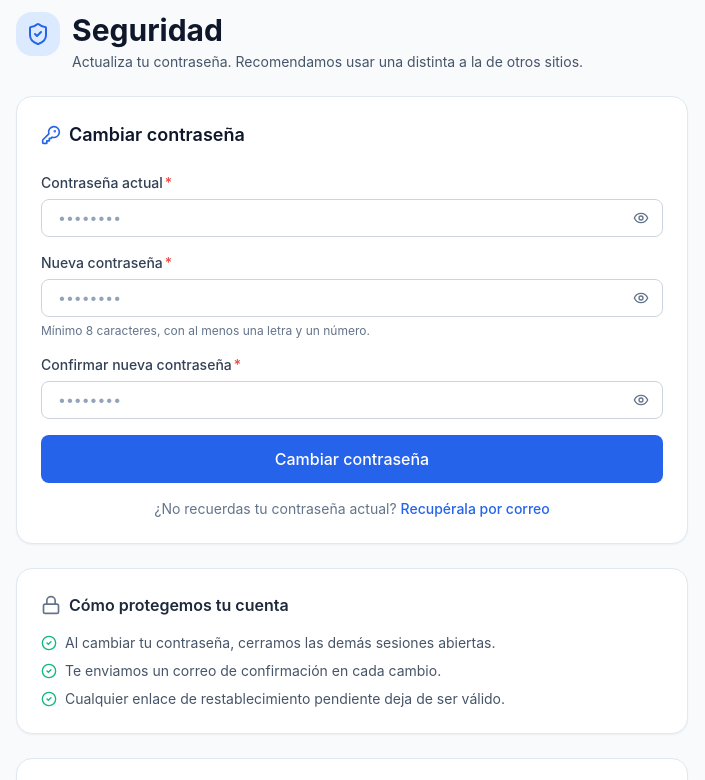
Scenario: SecuritySettings › valida la política y la confirmación
Type "Actual123" into the password field labelled "Contraseña actual*". click: (352, 218)
box: [41,199,663,237]
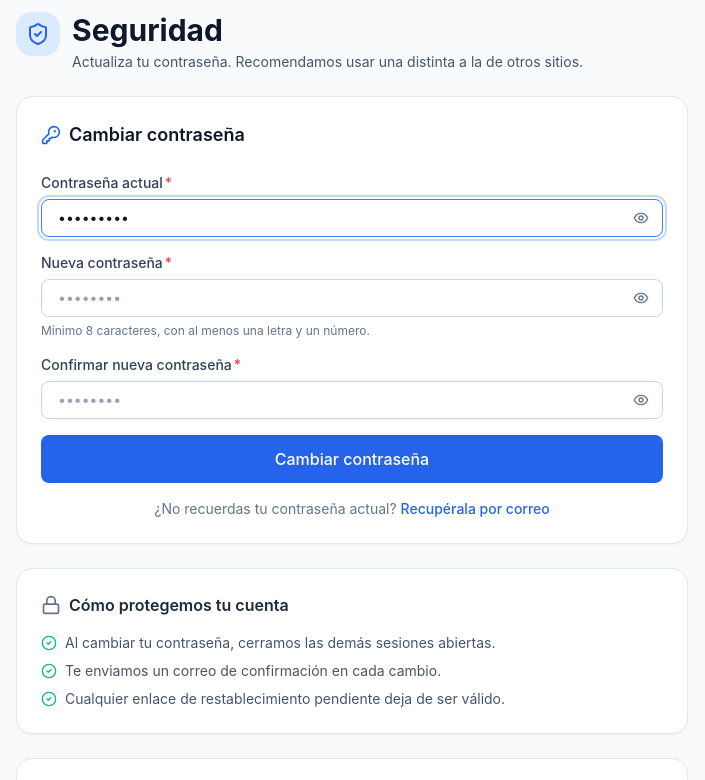
Type "sololetras" into the password field labelled "Nueva contraseña*". click: (352, 298)
box: [41,279,663,317]
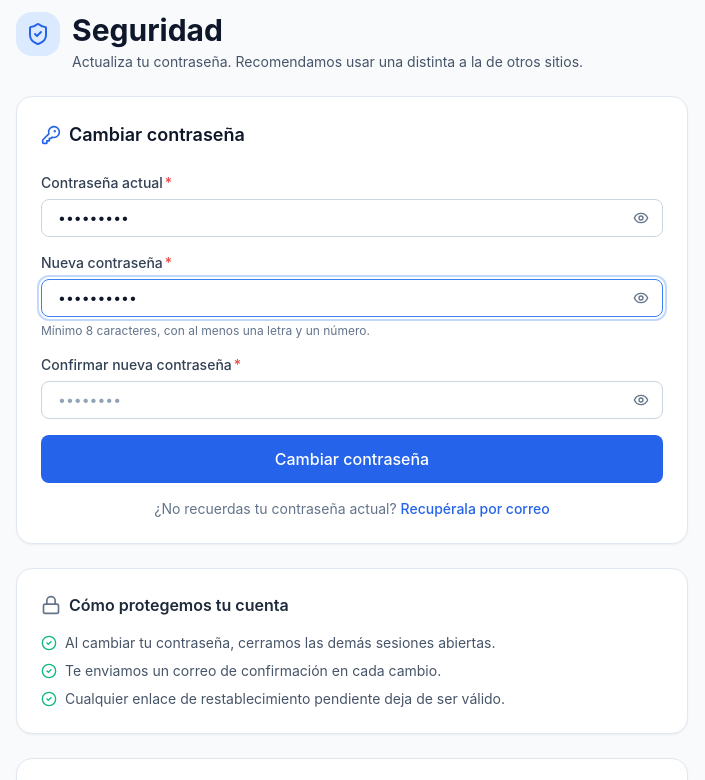
Type "otra" into the password field labelled "Confirmar nueva contraseña*". click: (352, 400)
box: [41,381,663,419]
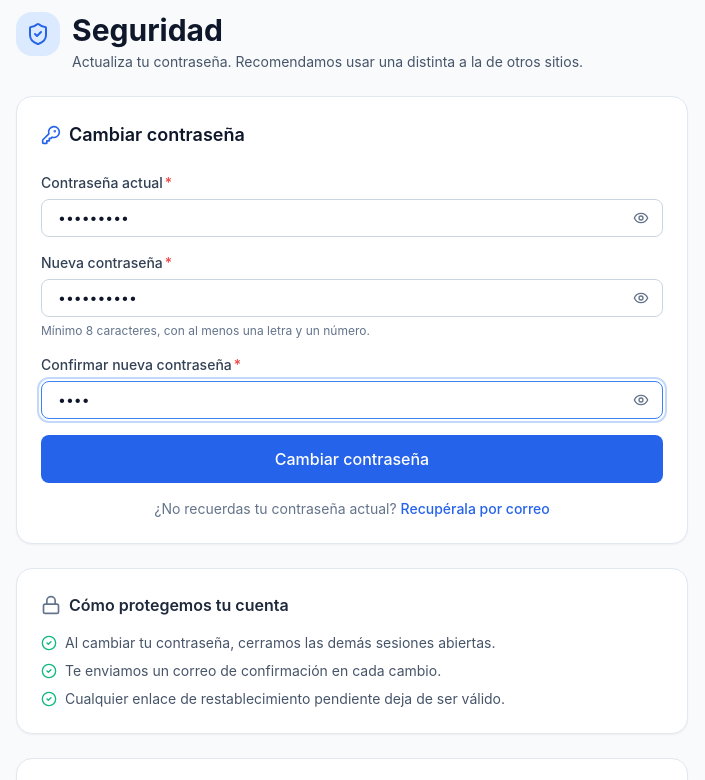
Click the button "Cambiar contraseña". click: (352, 459)
box: [41,435,663,483]
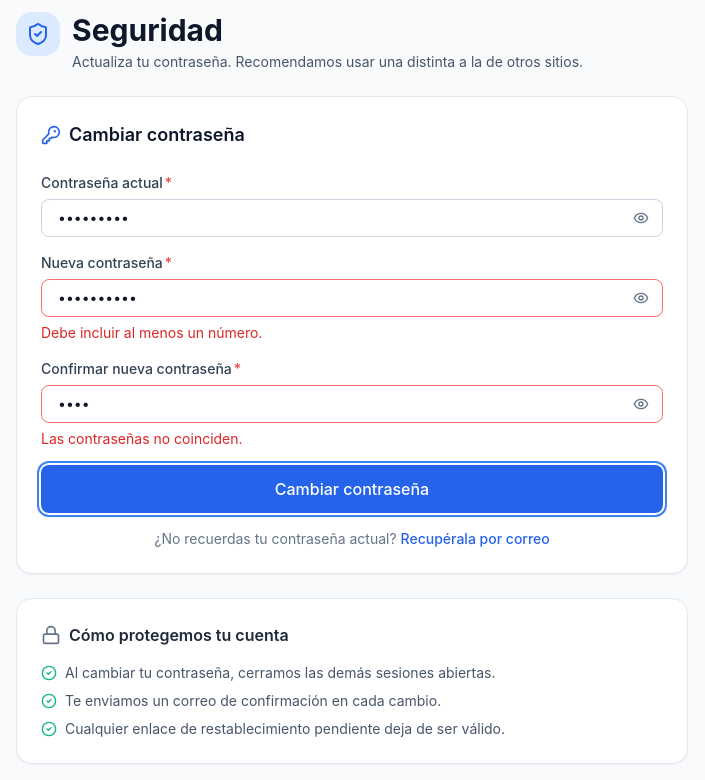
Expected: the text "Debe incluir al menos un número." is shown, [41,324,262,341]
Expected: the text "Las contraseñas no coinciden." is shown, [41,430,243,447]
